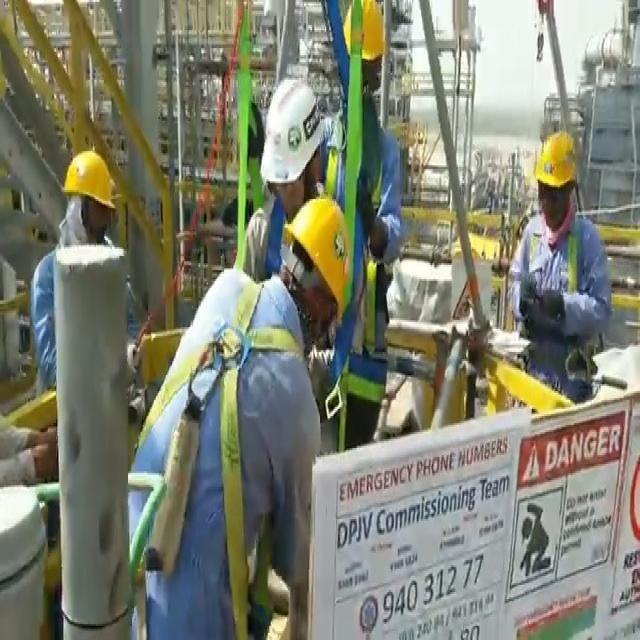No_BreathingApparatus: (537, 179, 570, 231)
Person: (178, 173, 318, 629), (510, 136, 608, 405)
